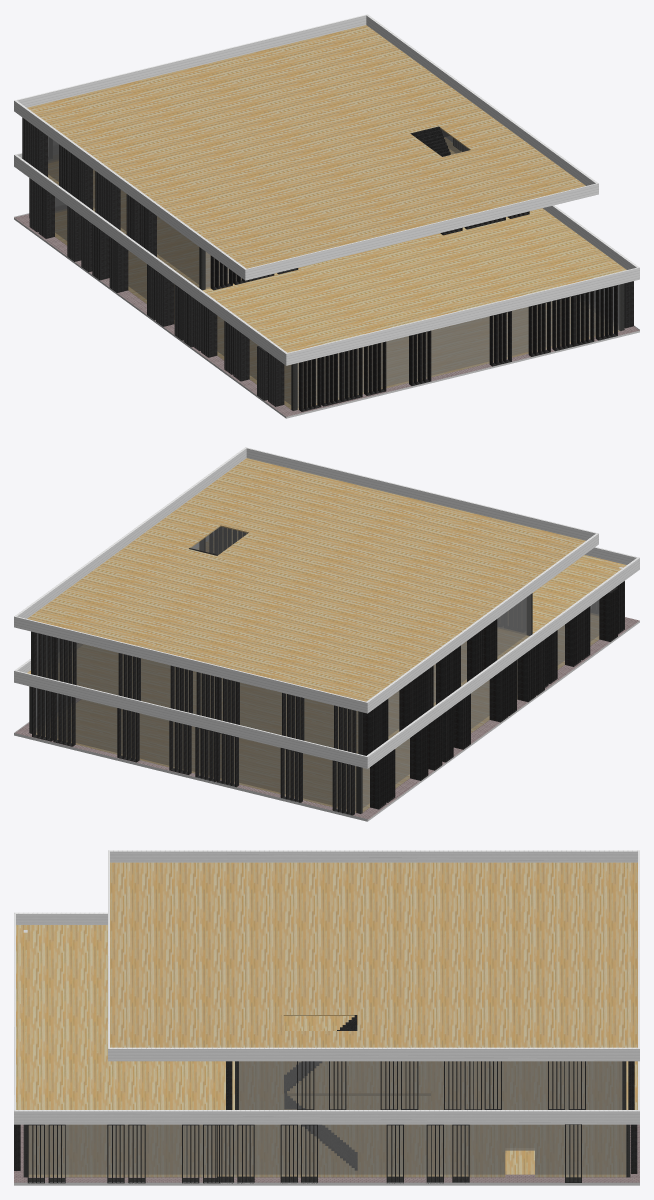
The picture shows the model from 3 angles, top to bottom: view 1: azimuth 30°, elevation 25°; view 2: azimuth 150°, elevation 25°; view 3: azimuth 270°, elevation 25°; orthographic projection. The views are drawn at different scales.
Parts seen in each view (by area): view 1: G-No_Name_002, G-No_Name_041, G-No_Name_027, G-No_Name_028, G-No_Name_029, G-No_Name_014, G-No_Name_042, G-No_Name_019, G-No_Name_023, G-No_Name_030, G-No_Name_031, G-No_Name_044 (+15 smaller); view 2: G-No_Name_002, G-No_Name_078, G-No_Name_057, G-No_Name_081, G-No_Name_075, G-No_Name_079, G-No_Name_064, G-No_Name_054, G-No_Name_085, G-No_Name_080, G-No_Name_052, G-No_Name_068 (+20 smaller); view 3: G-No_Name_002, G-No_Name_001, G-No_Name_066, G-No_Name_045, G-No_Name_070, G-No_Name_072, G-No_Name_048, G-No_Name_060, G-No_Name_071, G-No_Name_055, G-No_Name_051, G-No_Name_005 (+4 smaller).
Boxes of the visible parts, <box> form: G-No_Name_002: <box>14,14,639,418</box>; G-No_Name_041: <box>409,330,431,385</box>; G-No_Name_027: <box>364,341,386,395</box>; G-No_Name_028: <box>595,285,617,340</box>; G-No_Name_029: <box>552,295,574,351</box>; G-No_Name_014: <box>489,311,511,366</box>; G-No_Name_042: <box>528,301,550,356</box>; G-No_Name_019: <box>299,357,321,411</box>; G-No_Name_023: <box>321,352,343,406</box>; G-No_Name_030: <box>574,291,594,346</box>; G-No_Name_031: <box>343,347,362,401</box>; G-No_Name_044: <box>109,237,128,292</box>; G-No_Name_002: <box>14,447,639,821</box>; G-No_Name_078: <box>332,760,354,815</box>; G-No_Name_057: <box>216,732,238,787</box>; G-No_Name_081: <box>117,708,139,762</box>; G-No_Name_075: <box>53,692,75,746</box>; G-No_Name_079: <box>169,720,191,774</box>; G-No_Name_064: <box>280,748,302,802</box>; G-No_Name_054: <box>195,727,216,782</box>; G-No_Name_085: <box>32,687,53,741</box>; G-No_Name_080: <box>118,653,140,700</box>; G-No_Name_052: <box>54,637,76,685</box>; G-No_Name_068: <box>170,665,192,713</box>; G-No_Name_002: <box>14,850,639,1185</box>; G-No_Name_001: <box>14,1182,639,1183</box>; G-No_Name_066: <box>284,1093,357,1170</box>; G-No_Name_045: <box>128,1124,145,1183</box>; G-No_Name_070: <box>452,1124,469,1182</box>; G-No_Name_072: <box>284,1015,357,1092</box>; G-No_Name_048: <box>237,1124,254,1183</box>; G-No_Name_060: <box>107,1124,124,1183</box>; G-No_Name_071: <box>182,1124,199,1183</box>; G-No_Name_055: <box>301,1124,317,1183</box>; G-No_Name_051: <box>203,1124,219,1183</box>; G-No_Name_005: <box>217,1124,233,1183</box>.
Size of what is drawn, in the model's own units: 48 by 15.42 by 64.
11 materials, 9 textured.
